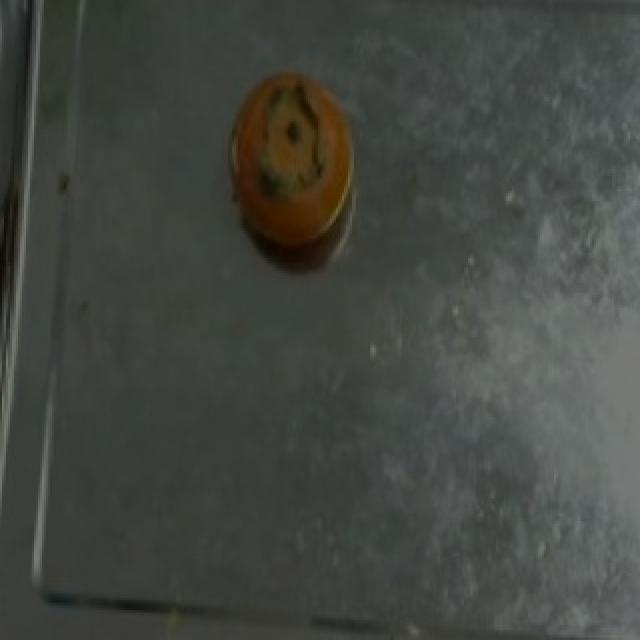Fruit: (222, 54, 376, 268)
